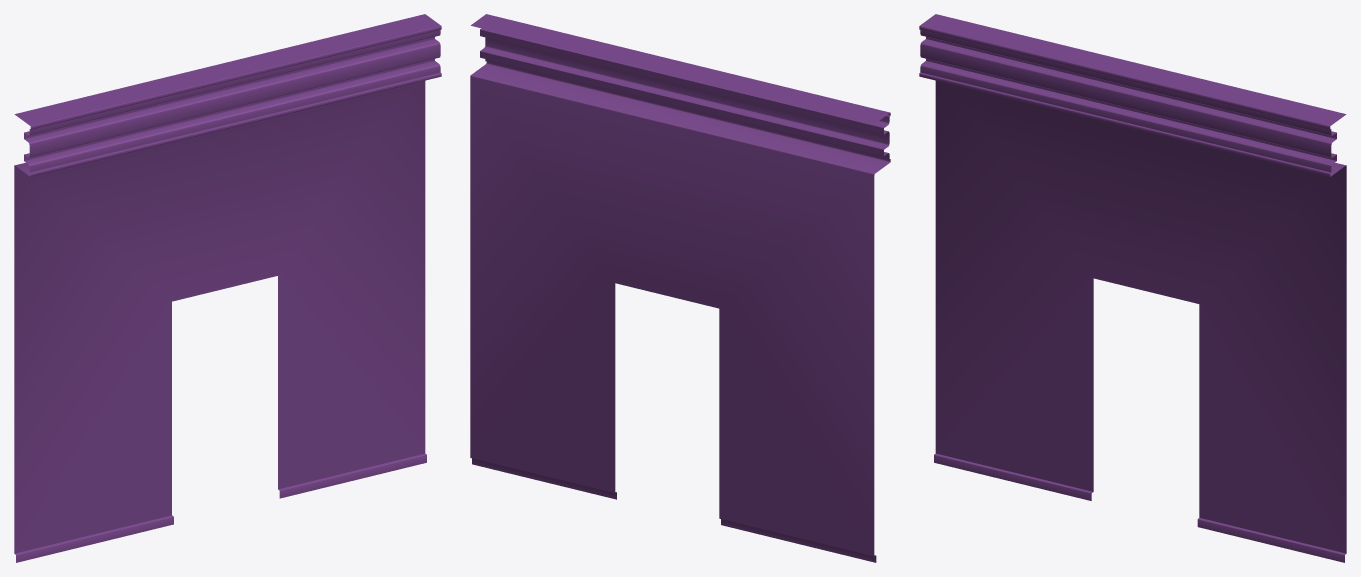
The model's file is GS_Ext_Rear_Wall_Doorway.fbx.
3 views of the same model, side by side, from view 1: azimuth 30°, elevation 25°; view 2: azimuth 150°, elevation 25°; view 3: azimuth 330°, elevation 25° (orthographic).
Visible parts, largest first — view 1: GS_Ext_Rear_Wall_Doorway; view 2: GS_Ext_Rear_Wall_Doorway; view 3: GS_Ext_Rear_Wall_Doorway.
Part boxes in pixels (x1,y1,x2,y2): GS_Ext_Rear_Wall_Doorway: (14,14,441,562); GS_Ext_Rear_Wall_Doorway: (470,14,890,562); GS_Ext_Rear_Wall_Doorway: (919,14,1346,562).
Bounding box in the file's own units: 388 × 404 × 27.
